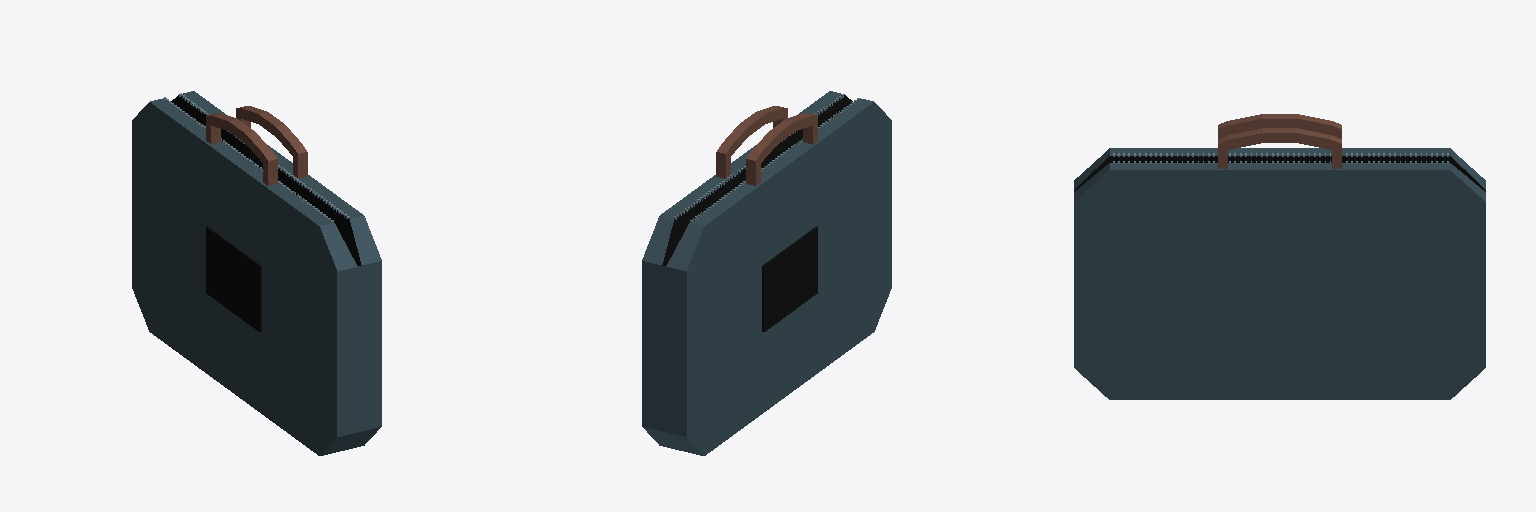
Rendered from Laptop_Bag_01.obj.
3 renders of one model, left to right at view 1: azimuth 30°, elevation 25°; view 2: azimuth 150°, elevation 25°; view 3: azimuth 270°, elevation 25°, orthographic.
Visible parts, largest first — view 1: Laptopbag_Cube; view 2: Laptopbag_Cube; view 3: Laptopbag_Cube.
Part boxes in pixels (x1,y1,x2,y2): Laptopbag_Cube: (132,91,381,455); Laptopbag_Cube: (642,91,891,455); Laptopbag_Cube: (1074,114,1485,399).
Bounding box in the file's own units: 2.11 × 11.56 × 16.21.